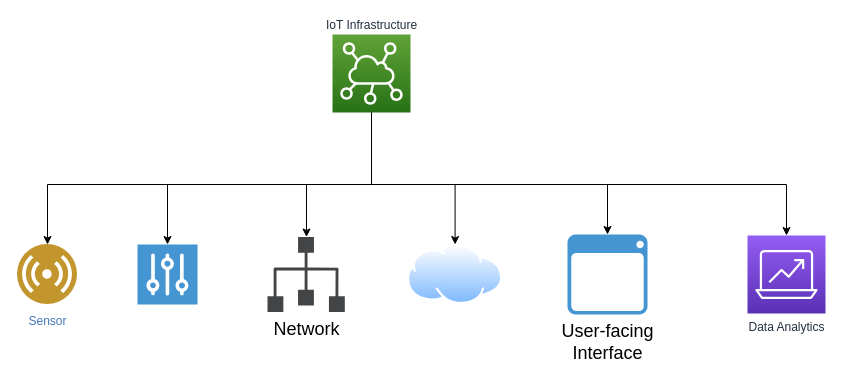
Image size: 843x381. Some labels were removed from this diagram. The centre of each missing label's shape, as x and y in pixels:
"Cloud" belongs at [454,274].
"Controller" belongs at [167,274].
